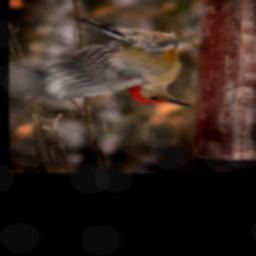Woodpecker: (12, 16, 194, 109)
